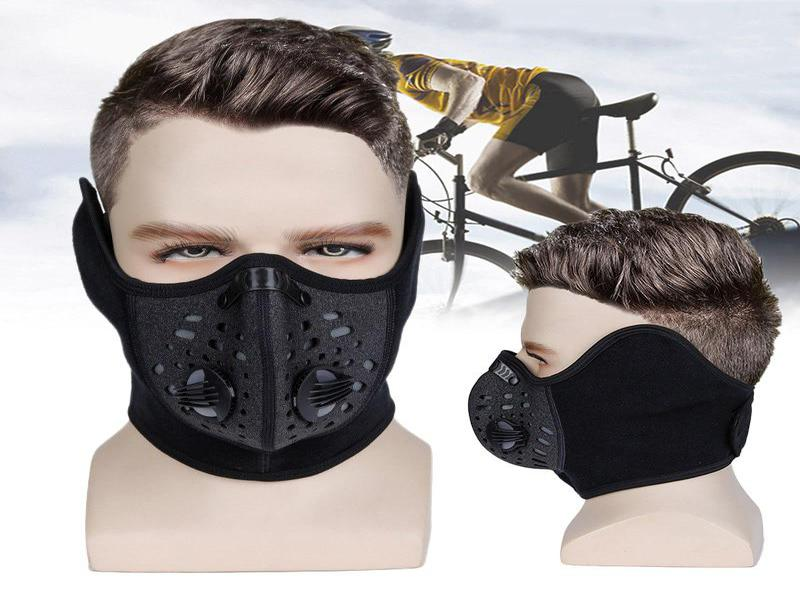with_mask: (76, 126, 422, 485), (457, 212, 778, 505)
